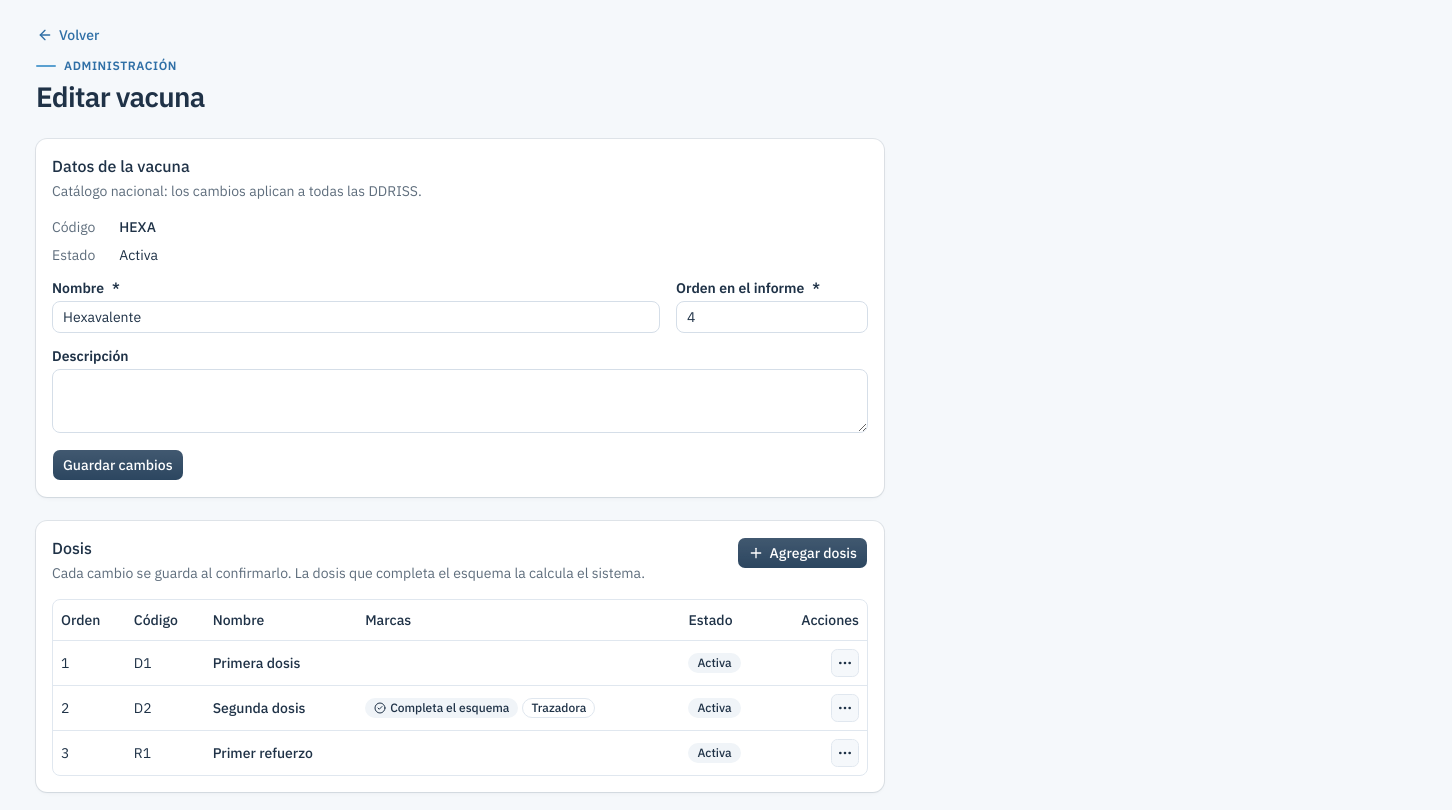
Scenario: "Guardar cambios" envía solo los campos que cambiaron y vuelve a la pestaña con el aviso, sin pedir confirmación
Expected: the table "dosis" is shown, [53,600,867,775]
Replace the text in the field labelled "Nombre *" with "  Hexavalente acelular ". click: (356, 317)
box: [52,301,660,333]
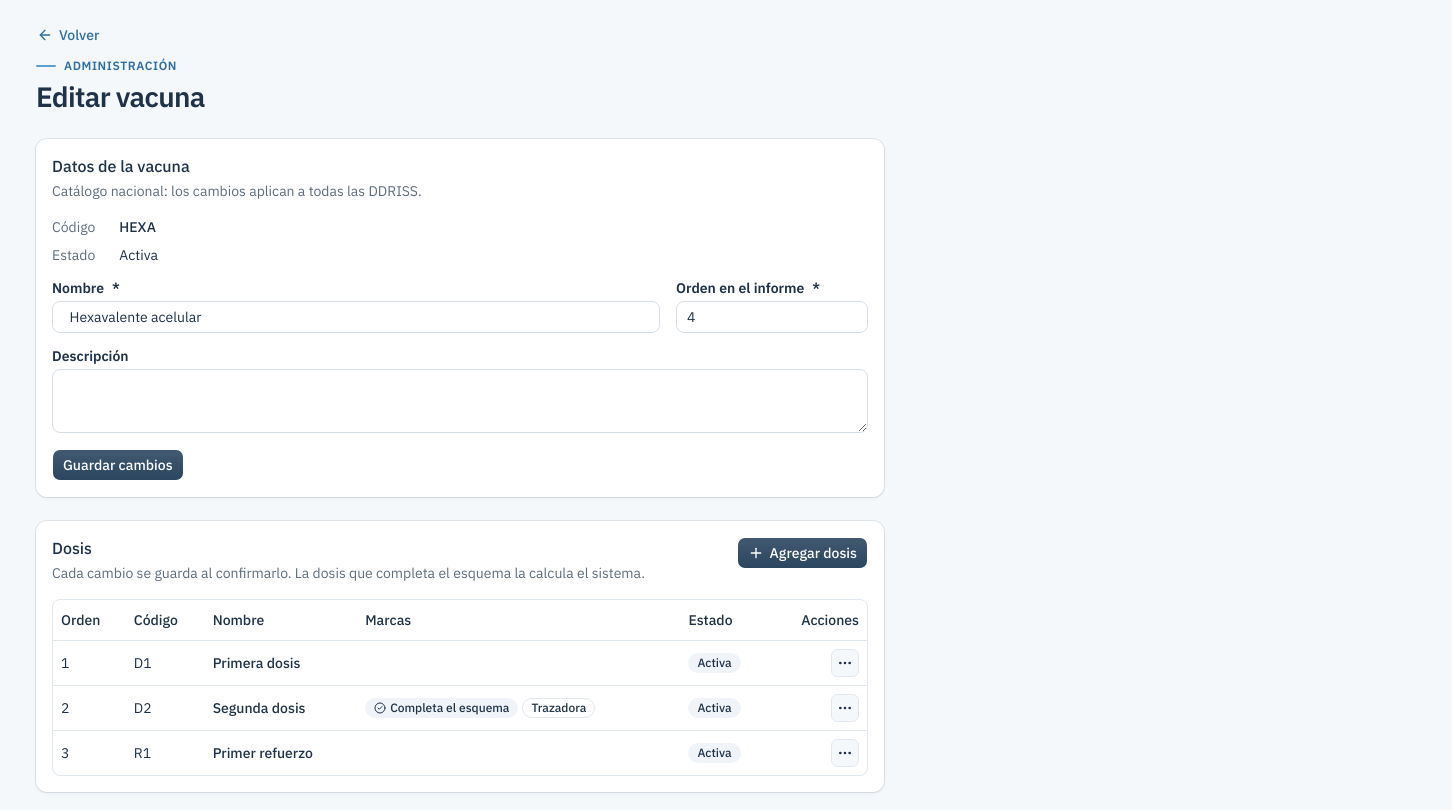
Click the button "Guardar cambios". click: (118, 465)
box: [52,449,184,481]
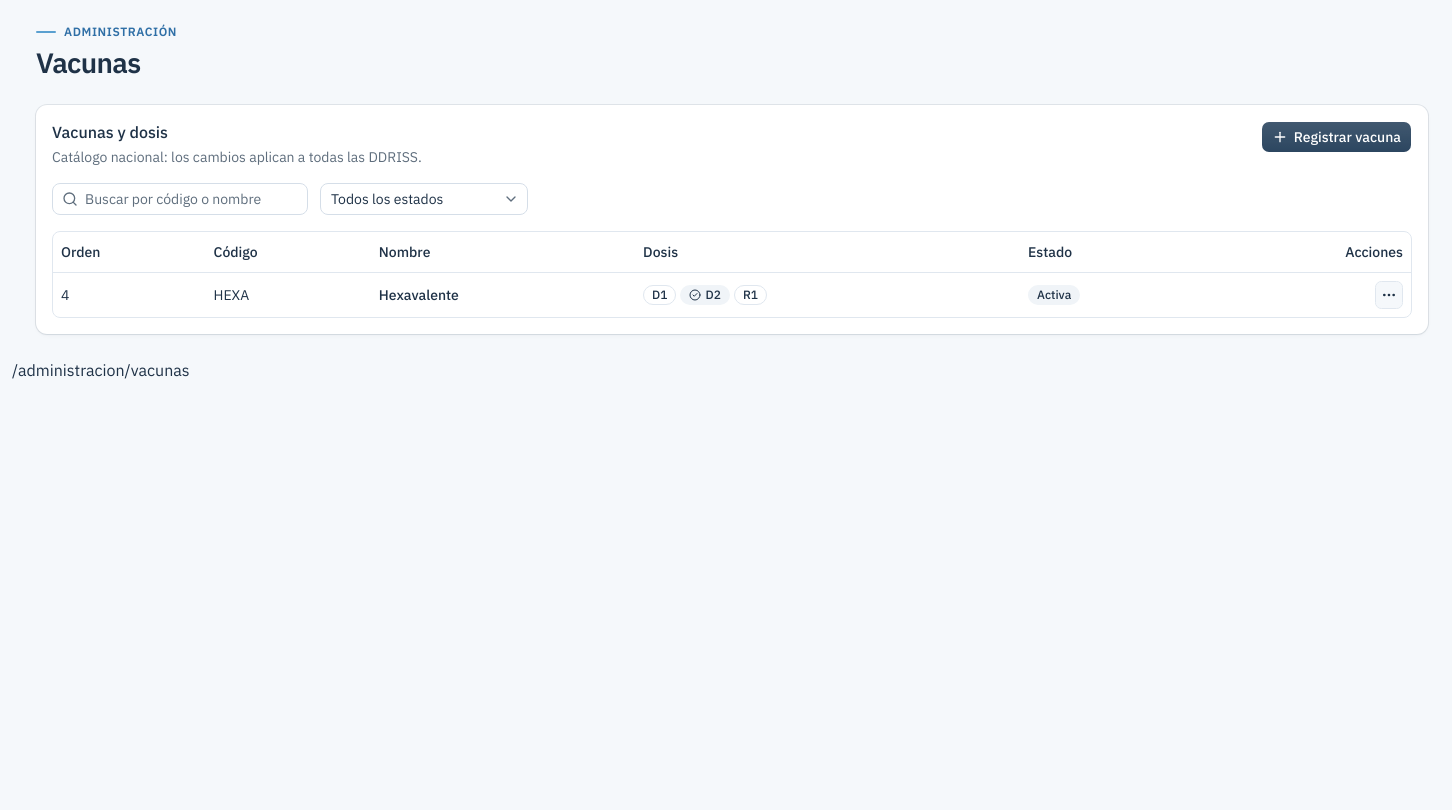
Result: the text with test id "ubicacion" reads "/administracion/vacunas" at [12,360,190,380]
